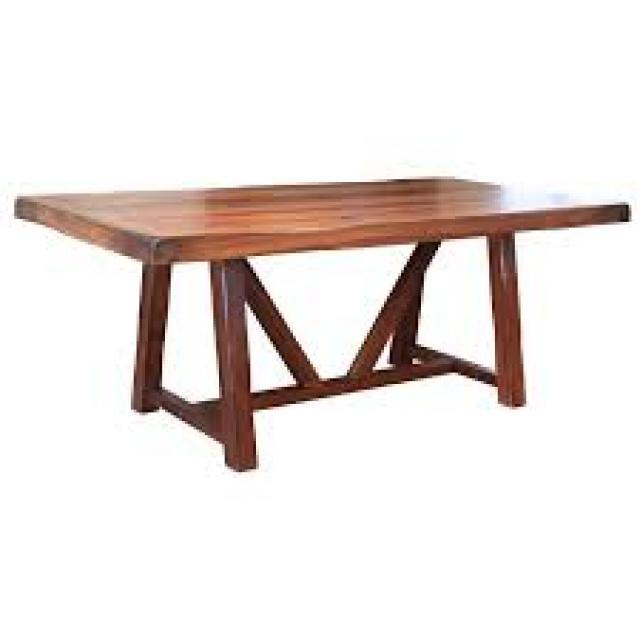mobile-phone: (10, 170, 634, 476)
